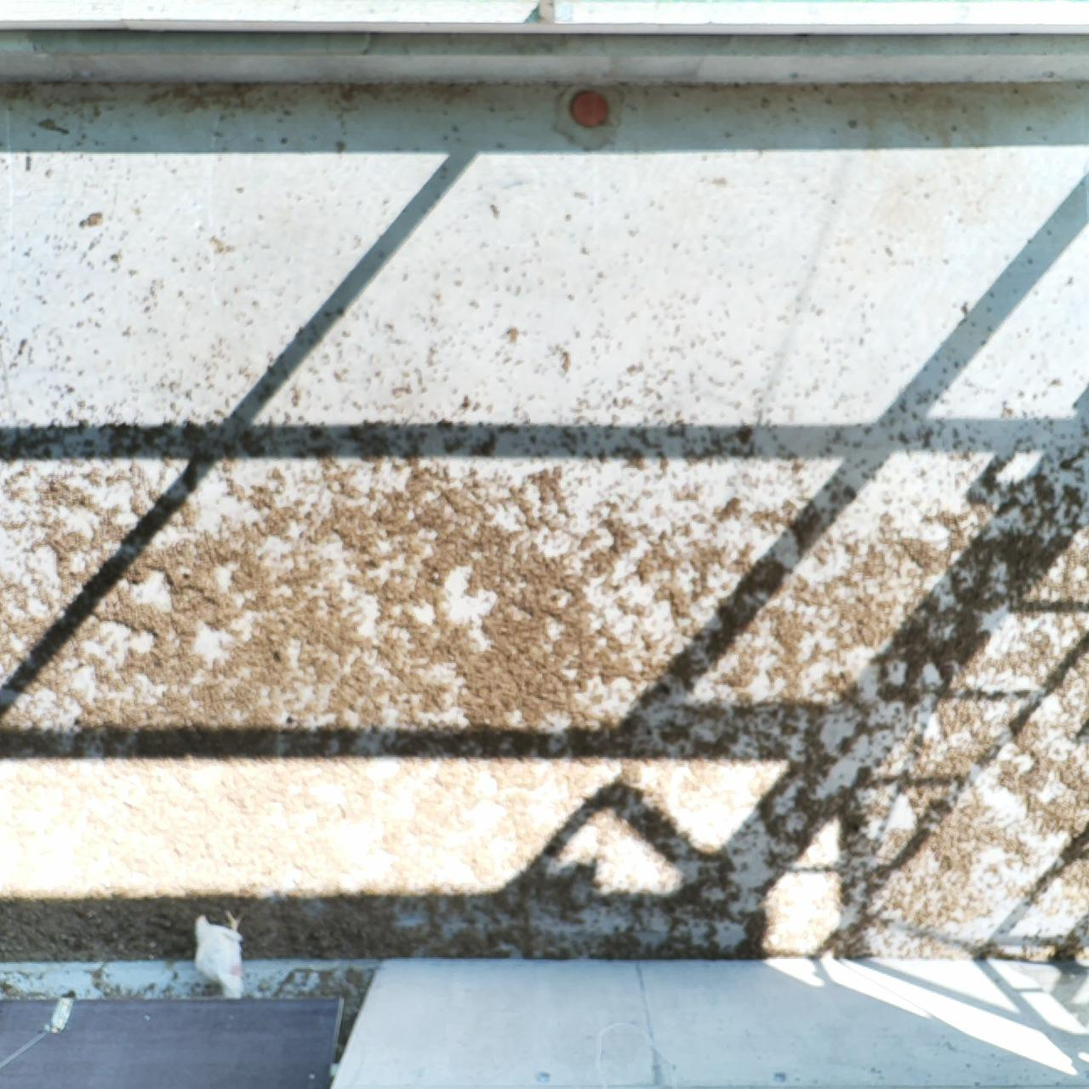chicken: (182, 904, 259, 1005)
